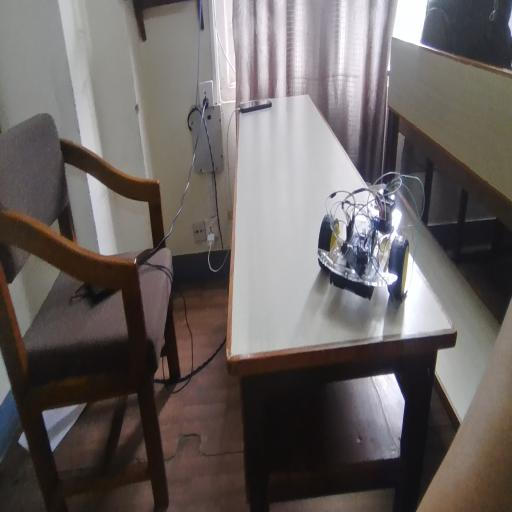car: (321, 155, 418, 308)
